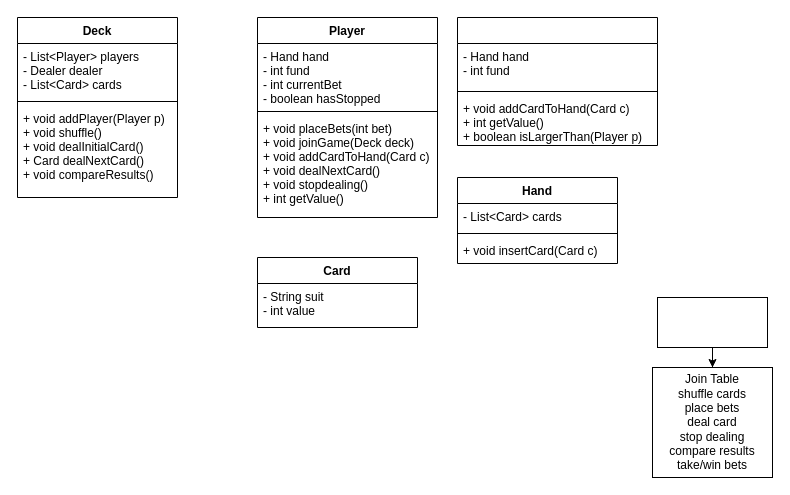
Some shapes in this 790 by 495 pixel diagram are drawn without their labels. Each missing label, with the box of its shape:
Dealer: (456, 16, 658, 146)
Use case: (656, 296, 768, 348)
